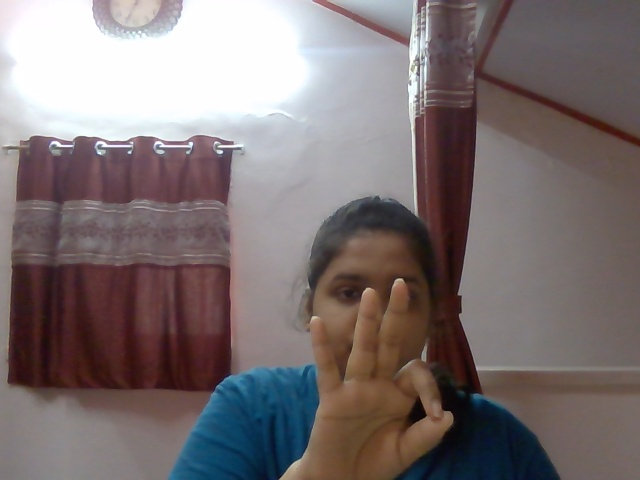f: (294, 274, 469, 460)
